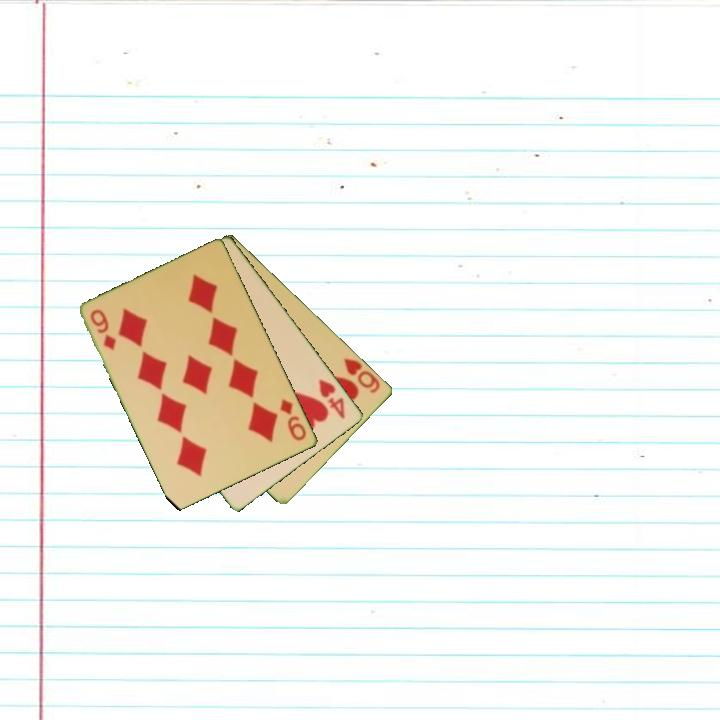4h: (315, 375, 348, 422)
6h: (340, 355, 383, 396)
9d: (276, 395, 310, 444), (87, 306, 120, 353)
